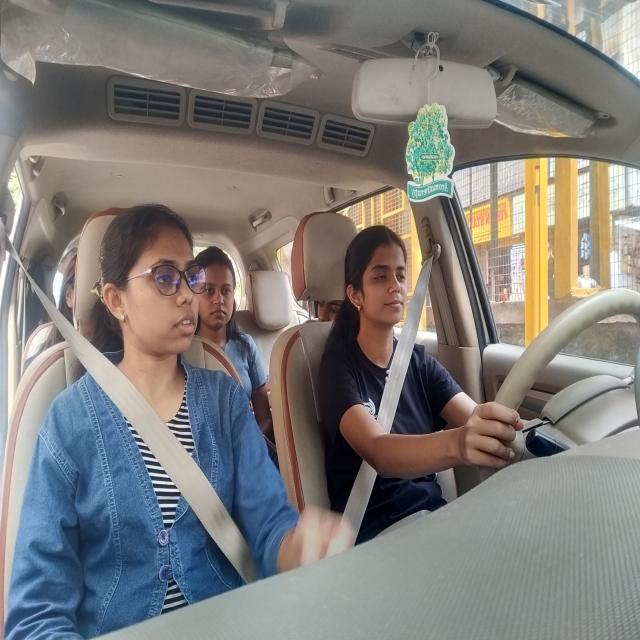person: (94, 190, 209, 370), (342, 214, 417, 351), (197, 226, 241, 340)
